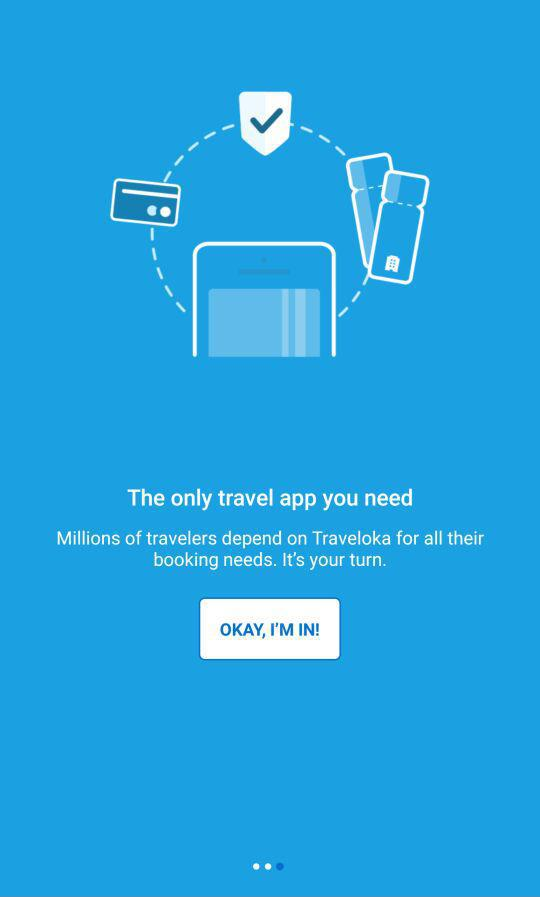Image: (109, 92, 430, 359)
PageIndicator: (252, 862, 285, 872)
Text: (57, 529, 485, 572), (127, 488, 413, 512)
TextButton: (200, 598, 341, 660)
